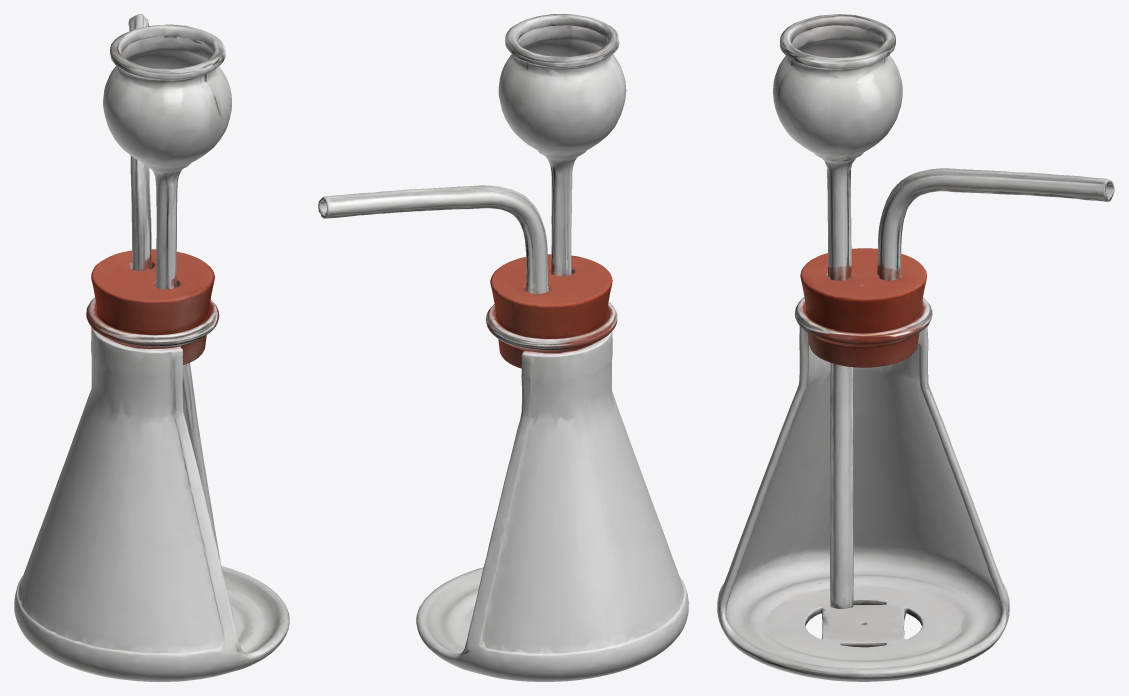
Rendered from gas-generator.glb.
3 views of the same model, side by side, from view 1: azimuth 30°, elevation 25°; view 2: azimuth 150°, elevation 25°; view 3: azimuth 270°, elevation 25° (orthographic).
Parts seen in each view (by area): view 1: gas-generator; view 2: gas-generator; view 3: gas-generator.
Boxes of the visible parts, x1=… form: gas-generator: x1=14, y1=14, x2=289, y2=681; gas-generator: x1=318, y1=14, x2=688, y2=681; gas-generator: x1=717, y1=14, x2=1114, y2=681.
Size of the model in its own units: 0.1253 by 0.3 by 0.1818.
Materials: 1 (1 with a texture image).
